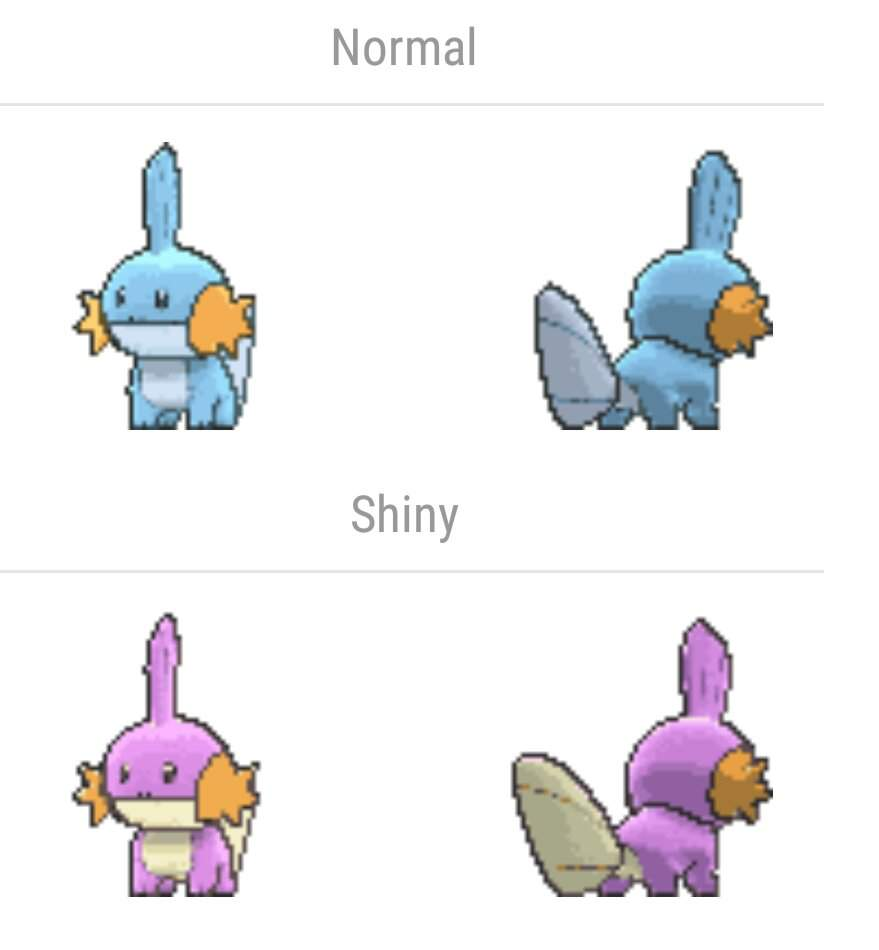mudkip: (527, 136, 773, 444), (56, 140, 262, 447)
